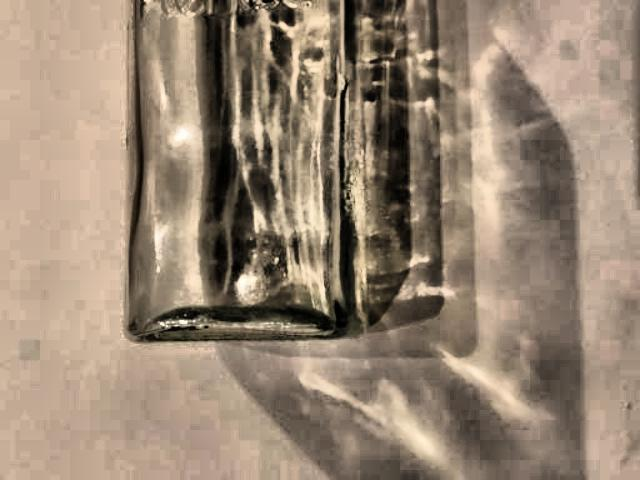Almennt: (108, 0, 379, 350)
